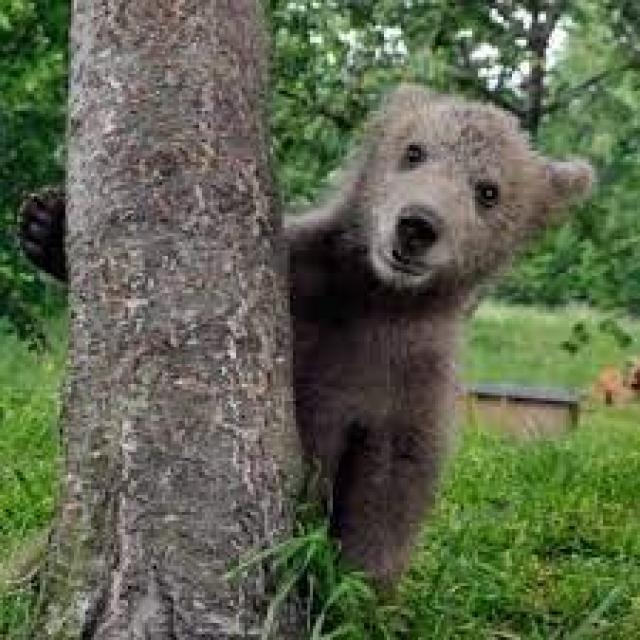Bear: (284, 82, 597, 603)
